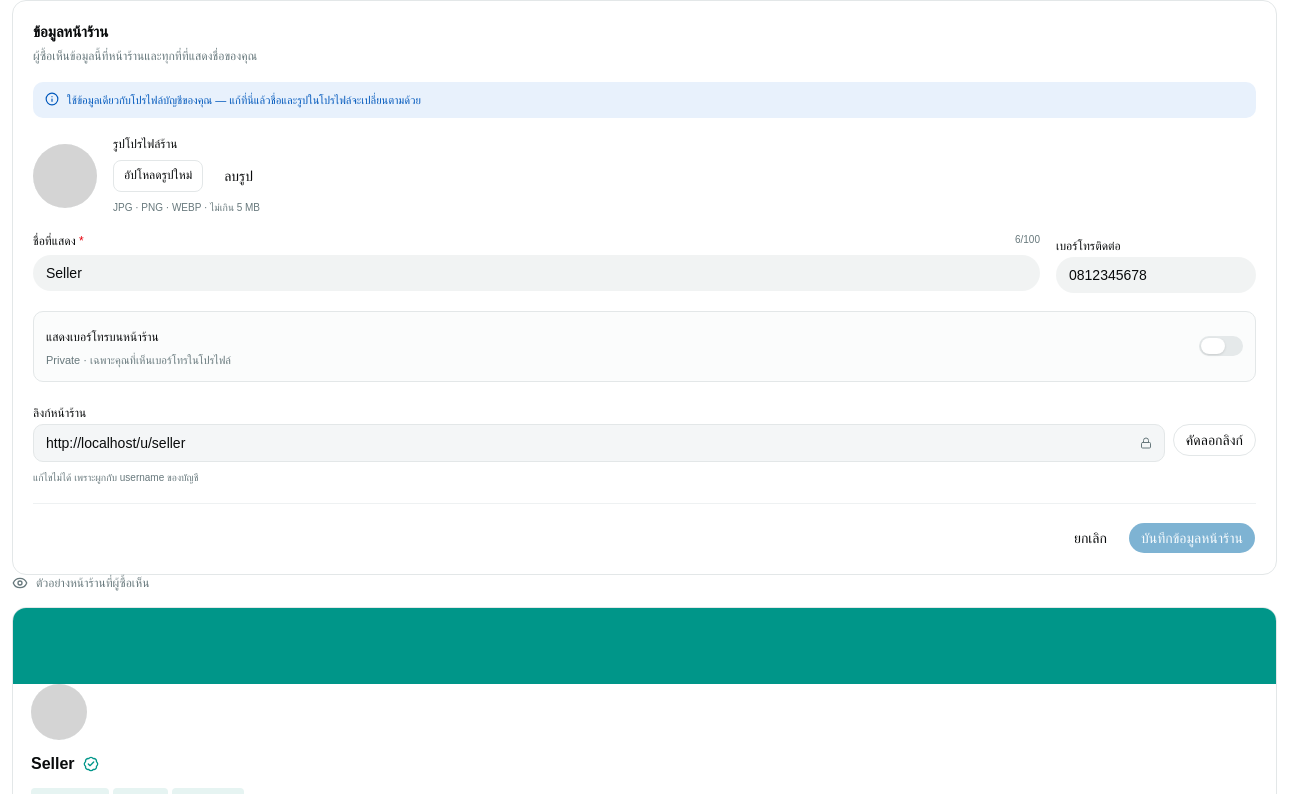
Scenario: ShopProfileCard › previews edits live, clears avatar with empty string and saves only changed fields
This screenshot has width=1292, height=794.
Replace the text in the field labelled "ชื่อที่แสดง *" with "New name" at (536, 273), box [33,255,1040,291]
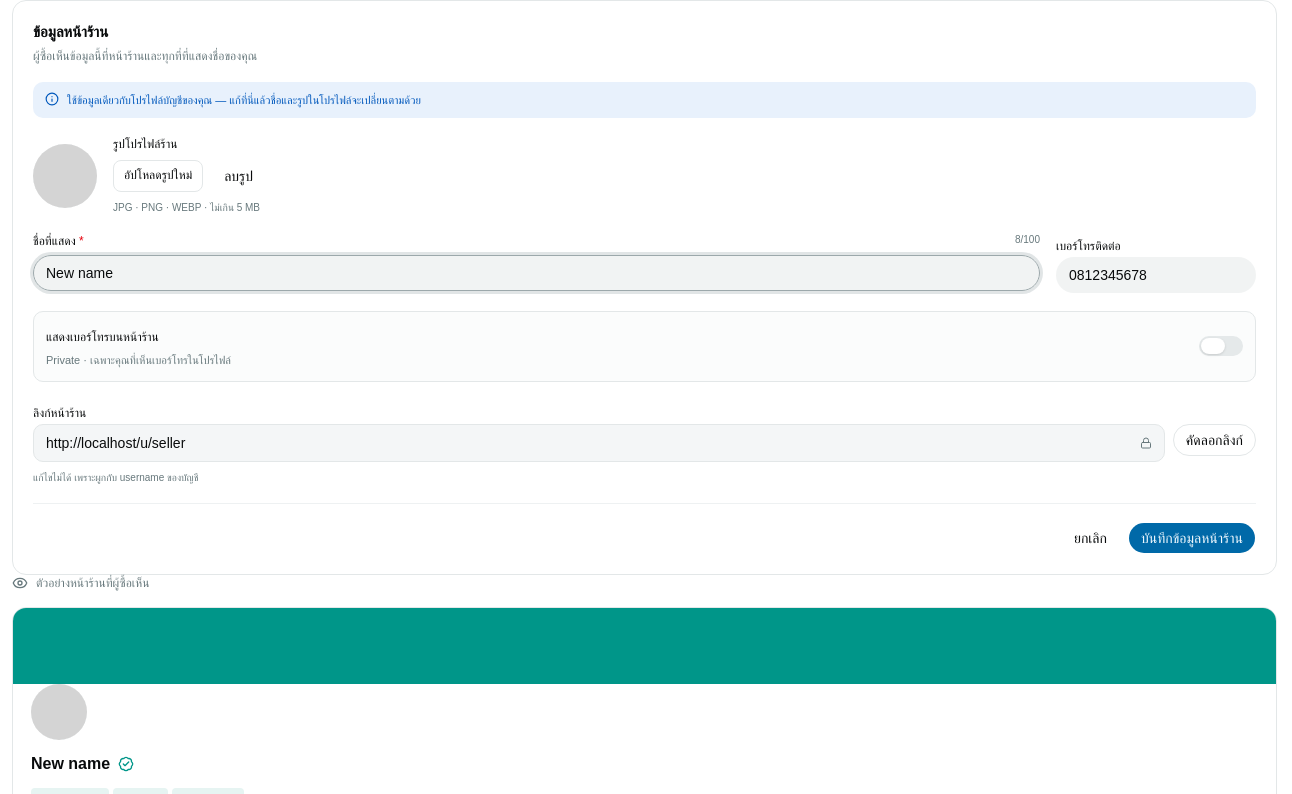
Expected: the heading "New name" is shown, [31,754,134,772]
Click the button "ลบรูป" at (239, 176), box [211,160,266,192]
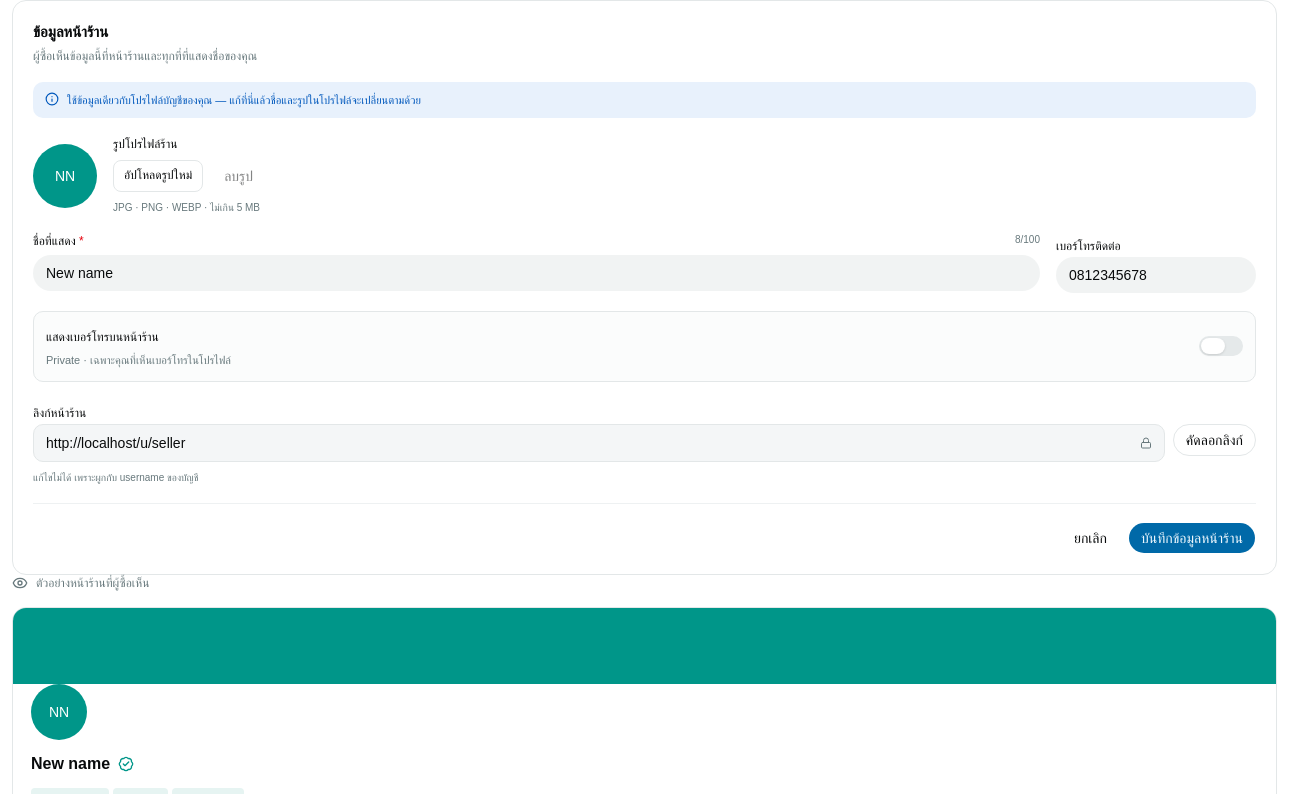
Click the button "บันทึกข้อมูลหน้าร้าน" at (1192, 538), box [1128,522,1256,554]
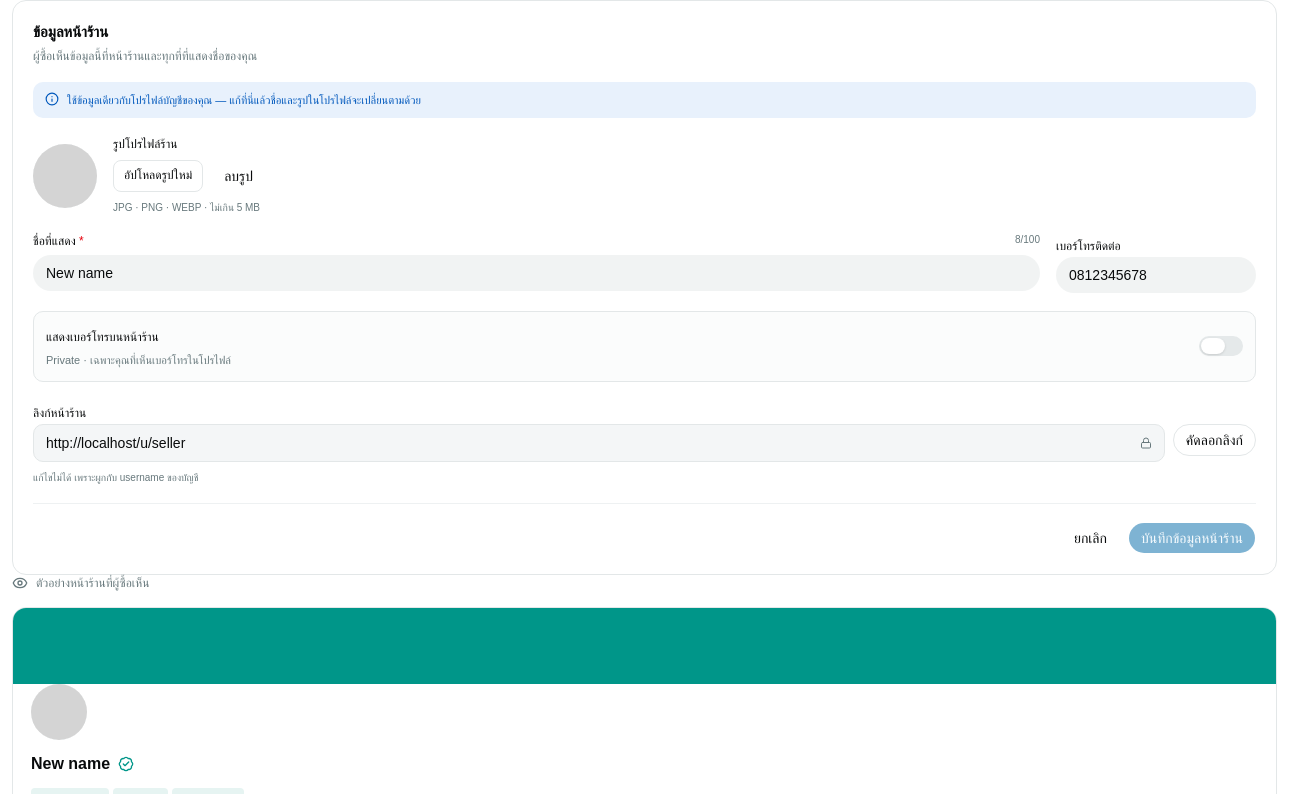
Expected: the button "บันทึกข้อมูลหน้าร้าน" is disabled, [1128,522,1256,554]
